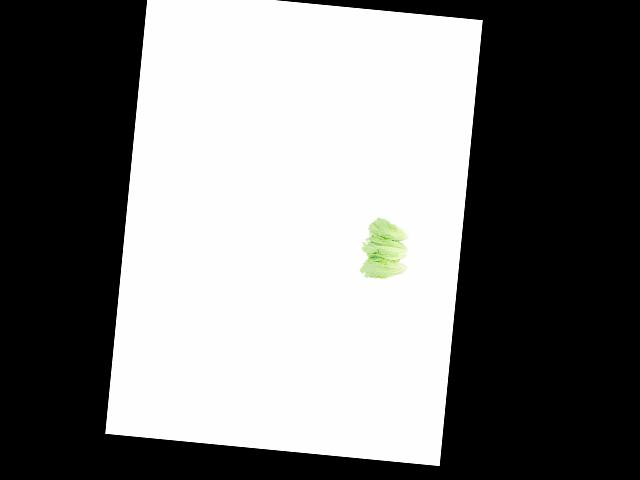lettuce: (365, 216, 420, 246)
